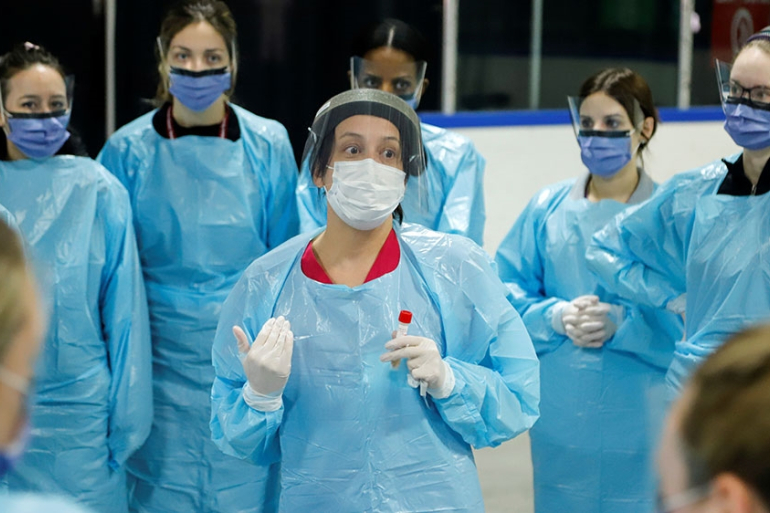Coverall: (215, 229, 497, 509), (111, 113, 288, 502), (509, 182, 662, 513), (3, 159, 141, 501)
Gloves: (233, 315, 300, 416), (378, 334, 456, 400), (552, 287, 617, 355)
with_mask: (328, 136, 405, 231), (6, 88, 69, 159), (168, 41, 229, 112), (720, 73, 770, 151), (577, 111, 635, 178)
